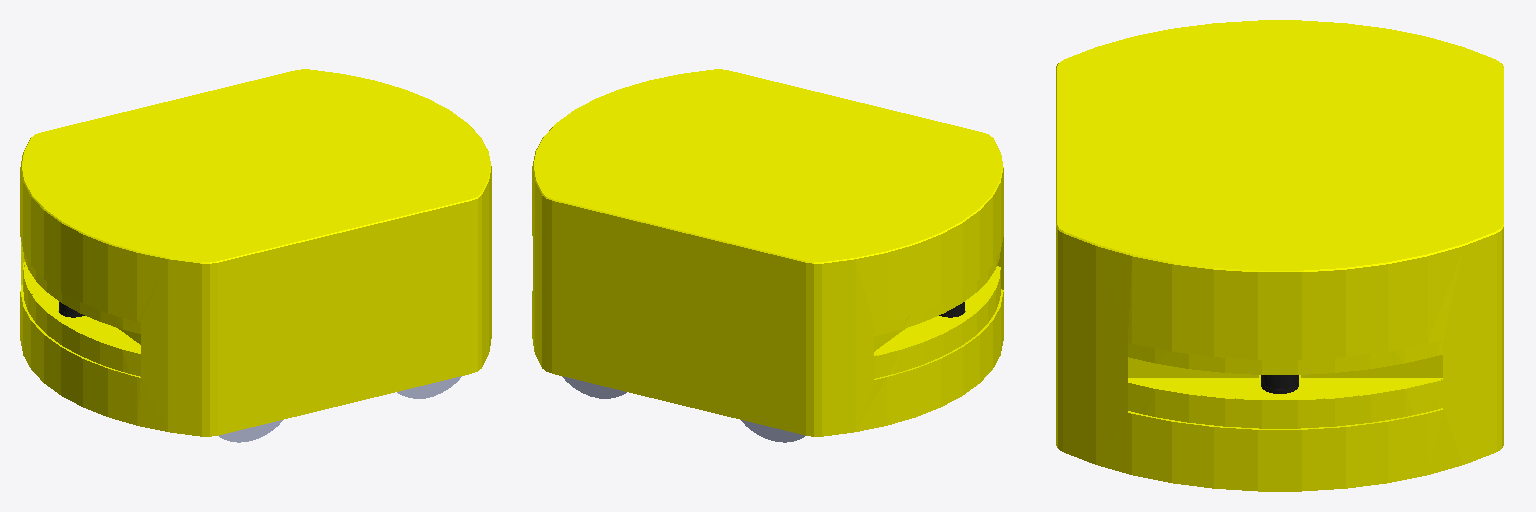
The robot description file, URDF, robot "aiv_imu_v2":
<?xml version="1.0"?>
<robot
  name="aiv_imu_v2">
  <link
    name="base_link">
    <inertial>
      <origin
        xyz="6.87793448505206E-17 -0.00156394179945474 0.129518871317834"
        rpy="0 0 0" />
      <mass
        value="152.136546659951" />
      <inertia
        ixx="4.14561167080814"
        ixy="1.08997913320005E-05"
        ixz="5.67688924911096E-16"
        iyy="5.38628750439473"
        iyz="-0.00487322107567128"
        izz="7.3945608306805" />
    </inertial>
    <visual>
      <origin
        xyz="0 0 0"
        rpy="0 0 0" />
      <geometry>
        <mesh
          filename="package://aiv_imu_v2/meshes/base_link.STL" />
      </geometry>
      <material
        name="">
        <color
          rgba="1 1 0 1" />
      </material>
    </visual>
    <collision>
      <origin
        xyz="0 0 0"
        rpy="0 0 0" />
      <geometry>
        <mesh
          filename="package://aiv_imu_v2/meshes/base_link.STL" />
      </geometry>
    </collision>
  </link>
  <link
    name="right_wheel1">
    <inertial>
      <origin
        xyz="-1.14991349775551E-12 -4.40446290550511E-13 0.0479999999990037"
        rpy="0 0 0" />
      <mass
        value="1.38940851892519" />
      <inertia
        ixx="0.00276634374084104"
        ixy="-3.38627612015008E-35"
        ixz="-6.86661375907486E-20"
        iyy="0.00276634374084104"
        iyz="-2.98281691521155E-35"
        izz="0.00419515021413011" />
    </inertial>
    <visual>
      <origin
        xyz="0 0 0"
        rpy="0 0 0" />
      <geometry>
        <mesh
          filename="package://aiv_imu_v2/meshes/right_wheel1.STL" />
      </geometry>
      <material
        name="">
        <color
          rgba="0.792156862745098 0.819607843137255 0.933333333333333 1" />
      </material>
    </visual>
    <collision>
      <origin
        xyz="0 0 0"
        rpy="0 0 0" />
      <geometry>
        <mesh
          filename="package://aiv_imu_v2/meshes/right_wheel1.STL" />
      </geometry>
    </collision>
  </link>
  <joint
    name="right_wheel1_joint"
    type="continuous">
    <origin
      xyz="0.139897063904446 0.14156844913427 0.0450000000000102"
      rpy="1.5707963267949 0 3.14159265358979" />
    <parent
      link="base_link" />
    <child
      link="right_wheel1" />
    <axis
      xyz="0 0 1" />
  </joint>
  <link
    name="left_wheel2">
    <inertial>
      <origin
        xyz="-6.38683550491237E-13 -4.73128480837914E-13 -0.0480000000000041"
        rpy="0 0 0" />
      <mass
        value="1.38940851892519" />
      <inertia
        ixx="0.00276634374084104"
        ixy="-2.74081616441698E-35"
        ixz="1.00733666245754E-17"
        iyy="0.00276634374084104"
        iyz="5.43666137255415E-36"
        izz="0.00419515021413011" />
    </inertial>
    <visual>
      <origin
        xyz="0 0 0"
        rpy="0 0 0" />
      <geometry>
        <mesh
          filename="package://aiv_imu_v2/meshes/left_wheel2.STL" />
      </geometry>
      <material
        name="">
        <color
          rgba="0.792156862745098 0.819607843137255 0.933333333333333 1" />
      </material>
    </visual>
    <collision>
      <origin
        xyz="0 0 0"
        rpy="0 0 0" />
      <geometry>
        <mesh
          filename="package://aiv_imu_v2/meshes/left_wheel2.STL" />
      </geometry>
    </collision>
  </link>
  <joint
    name="left_wheel2_joint"
    type="continuous">
    <origin
      xyz="0.139897063904454 -0.141724083720374 0.0450000000000127"
      rpy="1.5707963267949 0 3.14159265358979" />
    <parent
      link="base_link" />
    <child
      link="left_wheel2" />
    <axis
      xyz="0 0 1" />
  </joint>
  <link
    name="left_wheel3">
    <inertial>
      <origin
        xyz="-6.29857277445467E-13 5.33954824799565E-13 -0.0480000000000106"
        rpy="0 0 0" />
      <mass
        value="1.38940851892519" />
      <inertia
        ixx="0.00276634374084104"
        ixy="2.74301311244906E-35"
        ixz="1.01409598537663E-17"
        iyy="0.00276634374084104"
        iyz="4.15831126603387E-35"
        izz="0.00419515021413011" />
    </inertial>
    <visual>
      <origin
        xyz="0 0 0"
        rpy="0 0 0" />
      <geometry>
        <mesh
          filename="package://aiv_imu_v2/meshes/left_wheel3.STL" />
      </geometry>
      <material
        name="">
        <color
          rgba="0.792156862745098 0.819607843137255 0.933333333333333 1" />
      </material>
    </visual>
    <collision>
      <origin
        xyz="0 0 0"
        rpy="0 0 0" />
      <geometry>
        <mesh
          filename="package://aiv_imu_v2/meshes/left_wheel3.STL" />
      </geometry>
    </collision>
  </link>
  <joint
    name="left_wheel3_joint"
    type="continuous">
    <origin
      xyz="-0.139482853114889 -0.141724083720375 0.0449999999997022"
      rpy="1.5707963267949 0 3.14159265358979" />
    <parent
      link="base_link" />
    <child
      link="left_wheel3" />
    <axis
      xyz="0 0 1" />
  </joint>
  <link
    name="right_wheel4">
    <inertial>
      <origin
        xyz="6.17117468237893E-13 -4.63573623932234E-13 0.0480000000000164"
        rpy="0 0 0" />
      <mass
        value="1.38940851892519" />
      <inertia
        ixx="0.00276634374084104"
        ixy="-1.09847401603853E-38"
        ixz="-6.86661375907486E-20"
        iyy="0.00276634374084104"
        iyz="-8.15262893040505E-36"
        izz="0.00419515021413011" />
    </inertial>
    <visual>
      <origin
        xyz="0 0 0"
        rpy="0 0 0" />
      <geometry>
        <mesh
          filename="package://aiv_imu_v2/meshes/right_wheel4.STL" />
      </geometry>
      <material
        name="">
        <color
          rgba="0.792156862745098 0.819607843137255 0.933333333333333 1" />
      </material>
    </visual>
    <collision>
      <origin
        xyz="0 0 0"
        rpy="0 0 0" />
      <geometry>
        <mesh
          filename="package://aiv_imu_v2/meshes/right_wheel4.STL" />
      </geometry>
    </collision>
  </link>
  <joint
    name="right_wheel4_joint"
    type="continuous">
    <origin
      xyz="-0.139482853115031 0.14156844913422 0.0449999999996804"
      rpy="1.5707963267949 0 3.14159265358979" />
    <parent
      link="base_link" />
    <child
      link="right_wheel4" />
    <axis
      xyz="0 0 1" />
  </joint>
  <link
    name="hokuyo_Link_front">
    <inertial>
      <origin
        xyz="-0.000780692813445782 4.15767225386146E-05 -0.00546903856585218"
        rpy="0 0 0" />
      <mass
        value="0.134683421856808" />
      <inertia
        ixx="7.23289314303323E-05"
        ixy="3.0730745342767E-07"
        ixz="-6.60889302500689E-07"
        iyy="7.60198201005056E-05"
        iyz="1.05297506301973E-07"
        izz="4.80658661333251E-05" />
    </inertial>
    <visual>
      <origin
        xyz="0 0 0"
        rpy="0 0 0" />
      <geometry>
        <mesh
          filename="package://aiv_imu_v2/meshes/hokuyo_Link_front.STL" />
      </geometry>
      <material
        name="">
        <color
          rgba="0.156862745098039 0.156862745098039 0.156862745098039 1" />
      </material>
    </visual>
    <collision>
      <origin
        xyz="0 0 0"
        rpy="0 0 0" />
      <geometry>
        <mesh
          filename="package://aiv_imu_v2/meshes/hokuyo_Link_front.STL" />
      </geometry>
    </collision>
  </link>
  <joint
    name="hokuyo_link__front_joint"
    type="fixed">
    <origin
      xyz="0.285 0 0.138"
      rpy="-3.14159265358979 7.3142651636939E-29 5.15230954324254E-43" />
    <parent
      link="base_link" />
    <child
      link="hokuyo_Link_front" />
    <axis
      xyz="0 0 0" />
  </joint>
  <link
    name="hokuyo_Link_back">
    <inertial>
      <origin
        xyz="-0.000780692813445838 4.15767225385962E-05 -0.00546903856585218"
        rpy="0 0 0" />
      <mass
        value="0.134683421856808" />
      <inertia
        ixx="7.23289314303326E-05"
        ixy="3.0730745342766E-07"
        ixz="-6.60889302500727E-07"
        iyy="7.60198201005058E-05"
        iyz="1.05297506301981E-07"
        izz="4.80658661333252E-05" />
    </inertial>
    <visual>
      <origin
        xyz="0 0 0"
        rpy="0 0 0" />
      <geometry>
        <mesh
          filename="package://aiv_imu_v2/meshes/hokuyo_Link_back.STL" />
      </geometry>
      <material
        name="">
        <color
          rgba="0.156862745098039 0.156862745098039 0.156862745098039 1" />
      </material>
    </visual>
    <collision>
      <origin
        xyz="0 0 0"
        rpy="0 0 0" />
      <geometry>
        <mesh
          filename="package://aiv_imu_v2/meshes/hokuyo_Link_back.STL" />
      </geometry>
    </collision>
  </link>
  <joint
    name="hokuyo_Link_back_joint"
    type="fixed">
    <origin
      xyz="-0.284660355023666 0 0.138"
      rpy="-3.14159265358979 0 3.14159265358979" />
    <parent
      link="base_link" />
    <child
      link="hokuyo_Link_back" />
    <axis
      xyz="0 0 0" />
  </joint>
  <link
    name="base_imu_link">
    <inertial>
      <origin
        xyz="-1.30104260698261E-18 2.16840434497101E-19 0.003"
        rpy="0 0 0" />
      <mass
        value="0.0101714973637686" />
      <inertia
        ixx="1.18169580250659E-06"
        ixy="4.22479333968885E-22"
        ixz="1.79377087379717E-39"
        iyy="1.82413615455415E-06"
        iyz="0"
        izz="2.94480297287813E-06" />
    </inertial>
    <visual>
      <origin
        xyz="0 0 0"
        rpy="0 0 0" />
      <geometry>
        <mesh
          filename="package://aiv_imu_v2/meshes/base_imu_link.STL" />
      </geometry>
      <material
        name="">
        <color
          rgba="0.792156862745098 0.819607843137255 0.933333333333333 1" />
      </material>
    </visual>
    <collision>
      <origin
        xyz="0 0 0"
        rpy="0 0 0" />
      <geometry>
        <mesh
          filename="package://aiv_imu_v2/meshes/base_imu_link.STL" />
      </geometry>
    </collision>
  </link>
  <joint
    name="base_imu_link_Joint"
    type="fixed">
    <origin
      xyz="-0.00113592298461554 -0.00139829930856522 0.156"
      rpy="-3.14159265358979 0 0" />
    <parent
      link="base_link" />
    <child
      link="base_imu_link" />
    <axis
      xyz="0 0 0" />
  </joint>
</robot>

--- Render facts (derived) ---
3 views of the same robot in one strip: view 1: azimuth 30°, elevation 25°; view 2: azimuth 150°, elevation 25°; view 3: azimuth 270°, elevation 25° (orthographic).
Robot: aiv_imu_v2 — 8 links, 7 joints (4 continuous, 3 fixed); root link base_link; default pose: all joints at 0.
Visible links, largest first — view 1: base_link, left_wheel2, left_wheel3; view 2: base_link, right_wheel1, right_wheel4; view 3: base_link, hokuyo_Link_front.
Boxes of the visible links, bbox=[...] form: base_link: bbox=[20, 69, 491, 436]; left_wheel2: bbox=[397, 376, 461, 398]; left_wheel3: bbox=[219, 420, 282, 442]; base_link: bbox=[532, 69, 1003, 436]; right_wheel1: bbox=[562, 376, 626, 398]; right_wheel4: bbox=[741, 420, 804, 442]; base_link: bbox=[1056, 20, 1503, 491]; hokuyo_Link_front: bbox=[1261, 375, 1298, 393].
Size in the robot's own frame: 0.6361 by 0.48 by 0.2867 metres.
Meshes: 8 distinct files referenced, 8 mesh visuals loaded (8 binary STL).